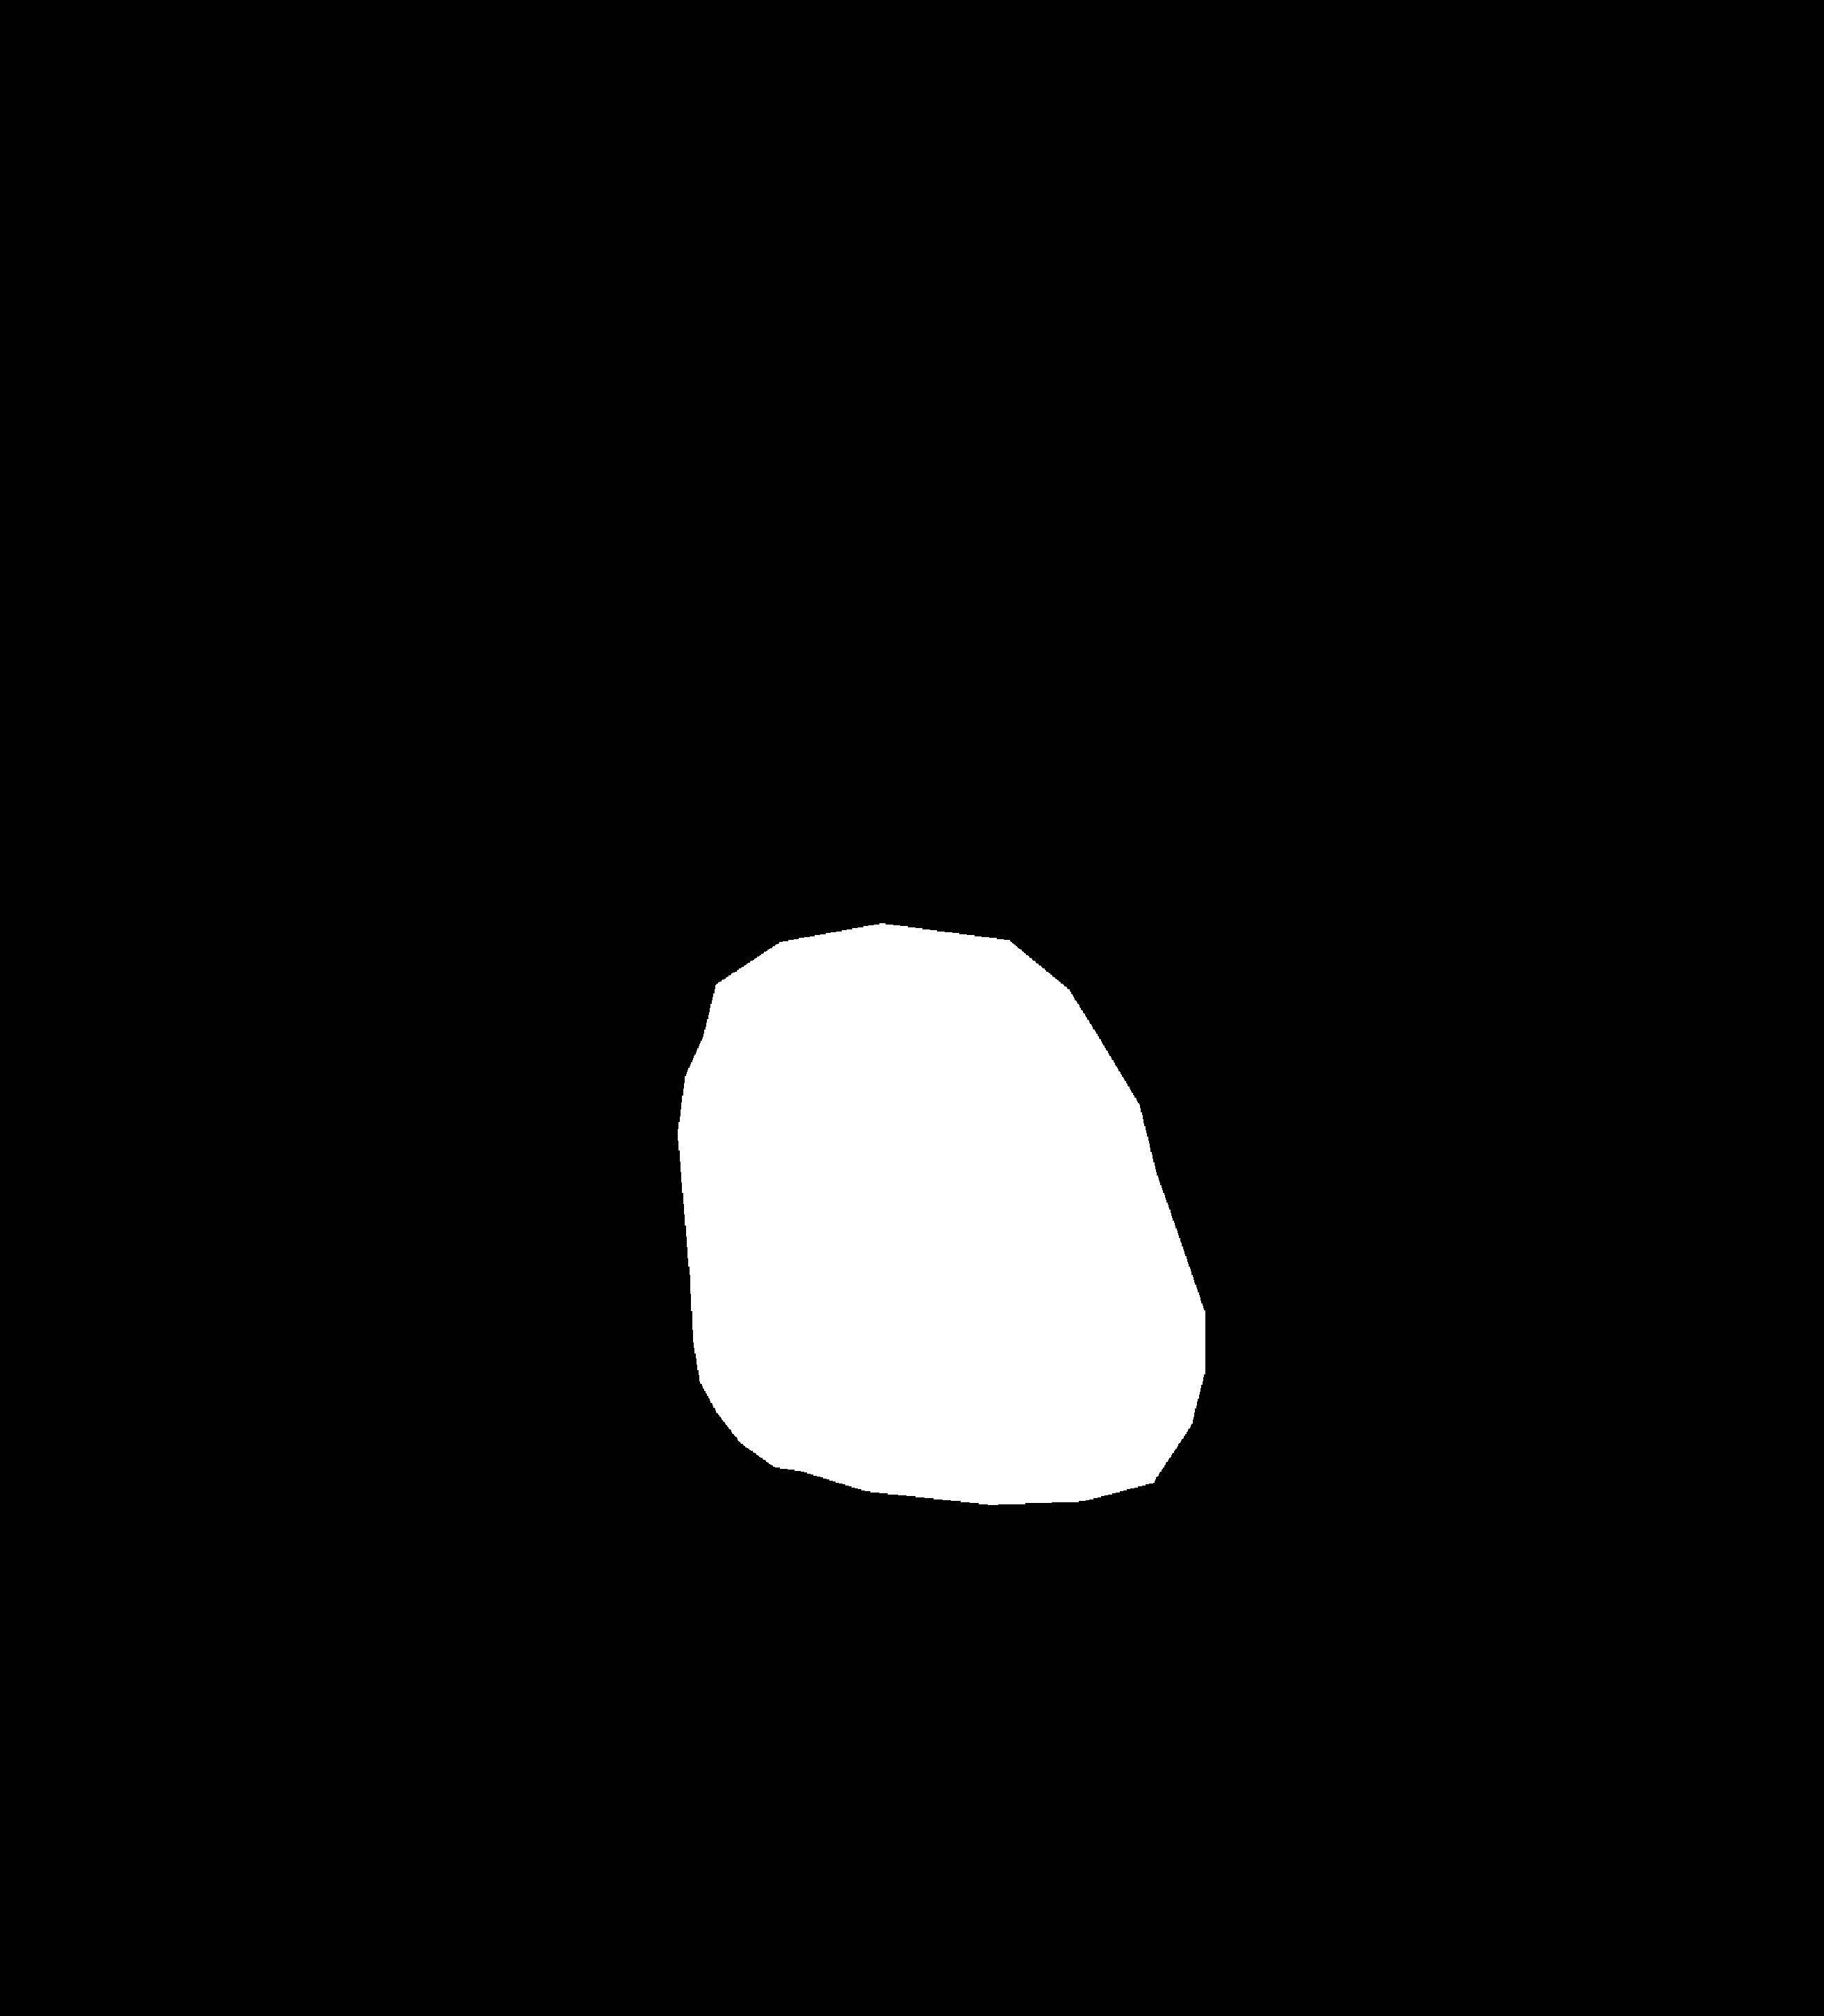heart: (678, 997, 1203, 1551)
left_lung: (202, 256, 762, 1732)
right_lung: (925, 246, 1601, 1770)
